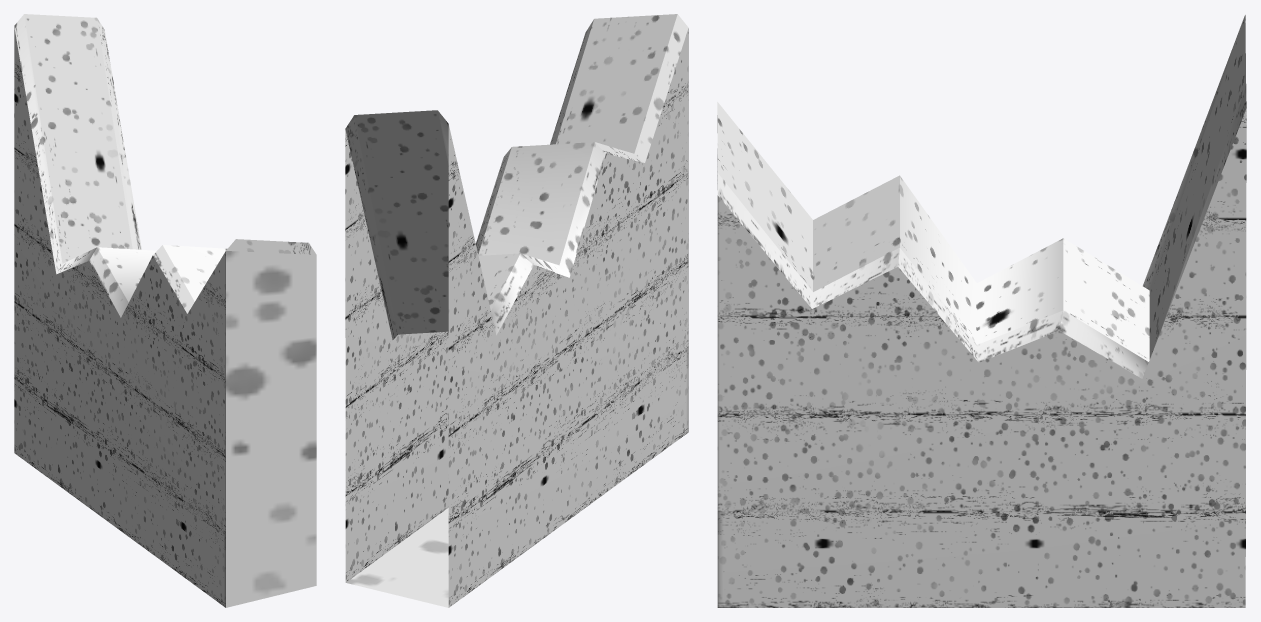
The model's file is Wall_Spacer_Cardinal_backing_01_Damaged.fbx.
3 renders of one model, left to right at view 1: azimuth 30°, elevation 25°; view 2: azimuth 150°, elevation 25°; view 3: azimuth 270°, elevation 25°, orthographic. The views are drawn at different scales.
Visible parts, largest first — view 1: Wall_Spacer_Cardinal_backing_01_Damaged; view 2: Wall_Spacer_Cardinal_backing_01_Damaged; view 3: Wall_Spacer_Cardinal_backing_01_Damaged.
Boxes of the visible parts, x1,y1,x2,y2 form: Wall_Spacer_Cardinal_backing_01_Damaged: (14,14,316,607); Wall_Spacer_Cardinal_backing_01_Damaged: (345,14,688,607); Wall_Spacer_Cardinal_backing_01_Damaged: (717,15,1246,607).
Size of the model in its own units: 0.25 by 1.15 by 1.01.
